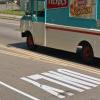Bus: (19, 1, 99, 68)
